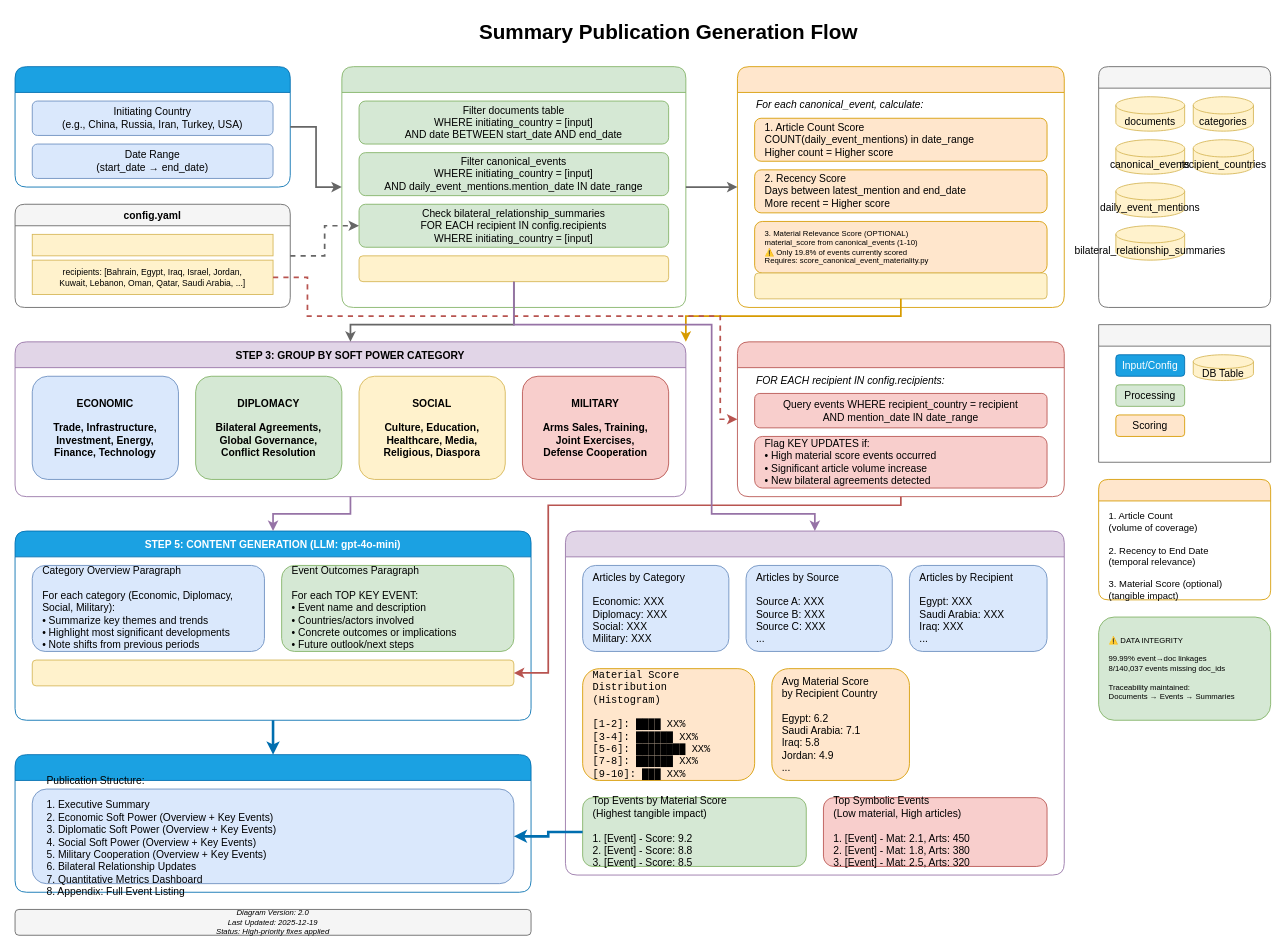
This 1286x950 diagram has some shape labels left out. The shapes that lost their labels are listed below. From the top down, each one's box as (x1, y1, x2, y2) in pixels, then its label:
(14, 66, 290, 187): INPUT PARAMETERS
(341, 66, 686, 307): STEP 1: DATA FILTERING
(737, 66, 1064, 307): STEP 2: KEY EVENT SCORING
(1098, 66, 1271, 307): DATABASE TABLES USED
(31, 233, 273, 256): influencers: [China, Russia, Iran, Turkey, USA]
(358, 255, 669, 282): Result: Filtered dataset for analysis
(754, 272, 1047, 299): Combined Score = w1*articles + w2*recency + w3*material
(1098, 324, 1271, 462): LEGEND
(737, 341, 1064, 497): STEP 4: BILATERAL RECIPIENT CHECK
(1098, 479, 1271, 600): KEY EVENT SELECTION CRITERIA
(31, 659, 514, 686): Bilateral Updates Section (if key updates flagged)
(565, 530, 1064, 875): STEP 6: QUANTITATIVE METRICS
(14, 754, 531, 892): FINAL OUTPUT: SUMMARY PUBLICATION
